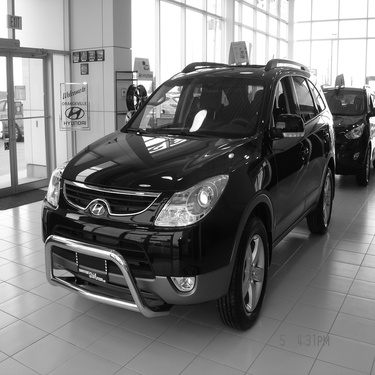car: (29, 49, 345, 335), (311, 79, 372, 191)
